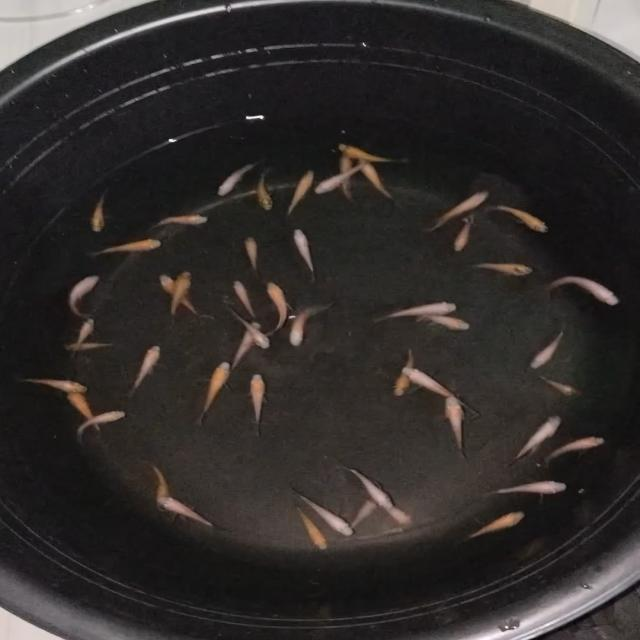nila: (290, 488, 360, 538), (536, 273, 622, 310), (506, 411, 564, 463), (402, 370, 475, 410), (428, 186, 488, 234), (344, 460, 396, 510), (154, 494, 222, 532), (284, 302, 334, 352), (541, 434, 608, 471), (358, 154, 407, 204), (196, 359, 232, 427), (371, 296, 458, 324), (64, 380, 109, 434), (483, 202, 554, 234), (222, 307, 276, 348), (256, 279, 292, 340), (460, 512, 528, 544), (158, 270, 203, 318), (294, 499, 336, 548), (317, 160, 372, 197), (212, 158, 262, 198), (486, 479, 572, 502), (128, 342, 164, 396), (224, 320, 260, 374), (279, 167, 317, 218), (89, 234, 168, 258), (526, 323, 566, 370), (334, 136, 404, 162), (446, 398, 472, 468), (72, 408, 130, 439), (246, 370, 271, 440), (348, 484, 386, 530), (66, 272, 103, 318), (377, 480, 414, 526), (20, 374, 90, 396), (292, 226, 318, 282), (168, 266, 192, 326), (143, 456, 167, 514), (67, 311, 95, 359), (405, 312, 472, 332), (230, 276, 258, 321), (394, 344, 419, 394), (538, 373, 586, 399), (468, 260, 540, 277), (451, 210, 478, 253), (339, 150, 357, 203), (254, 168, 275, 211), (150, 212, 212, 226), (90, 190, 108, 237), (242, 234, 263, 274), (61, 340, 120, 352), (524, 425, 542, 463)
